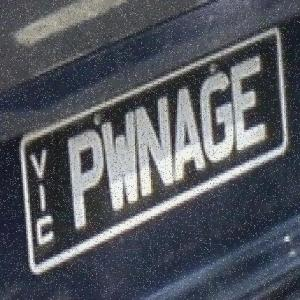Plate: (20, 26, 290, 276)
